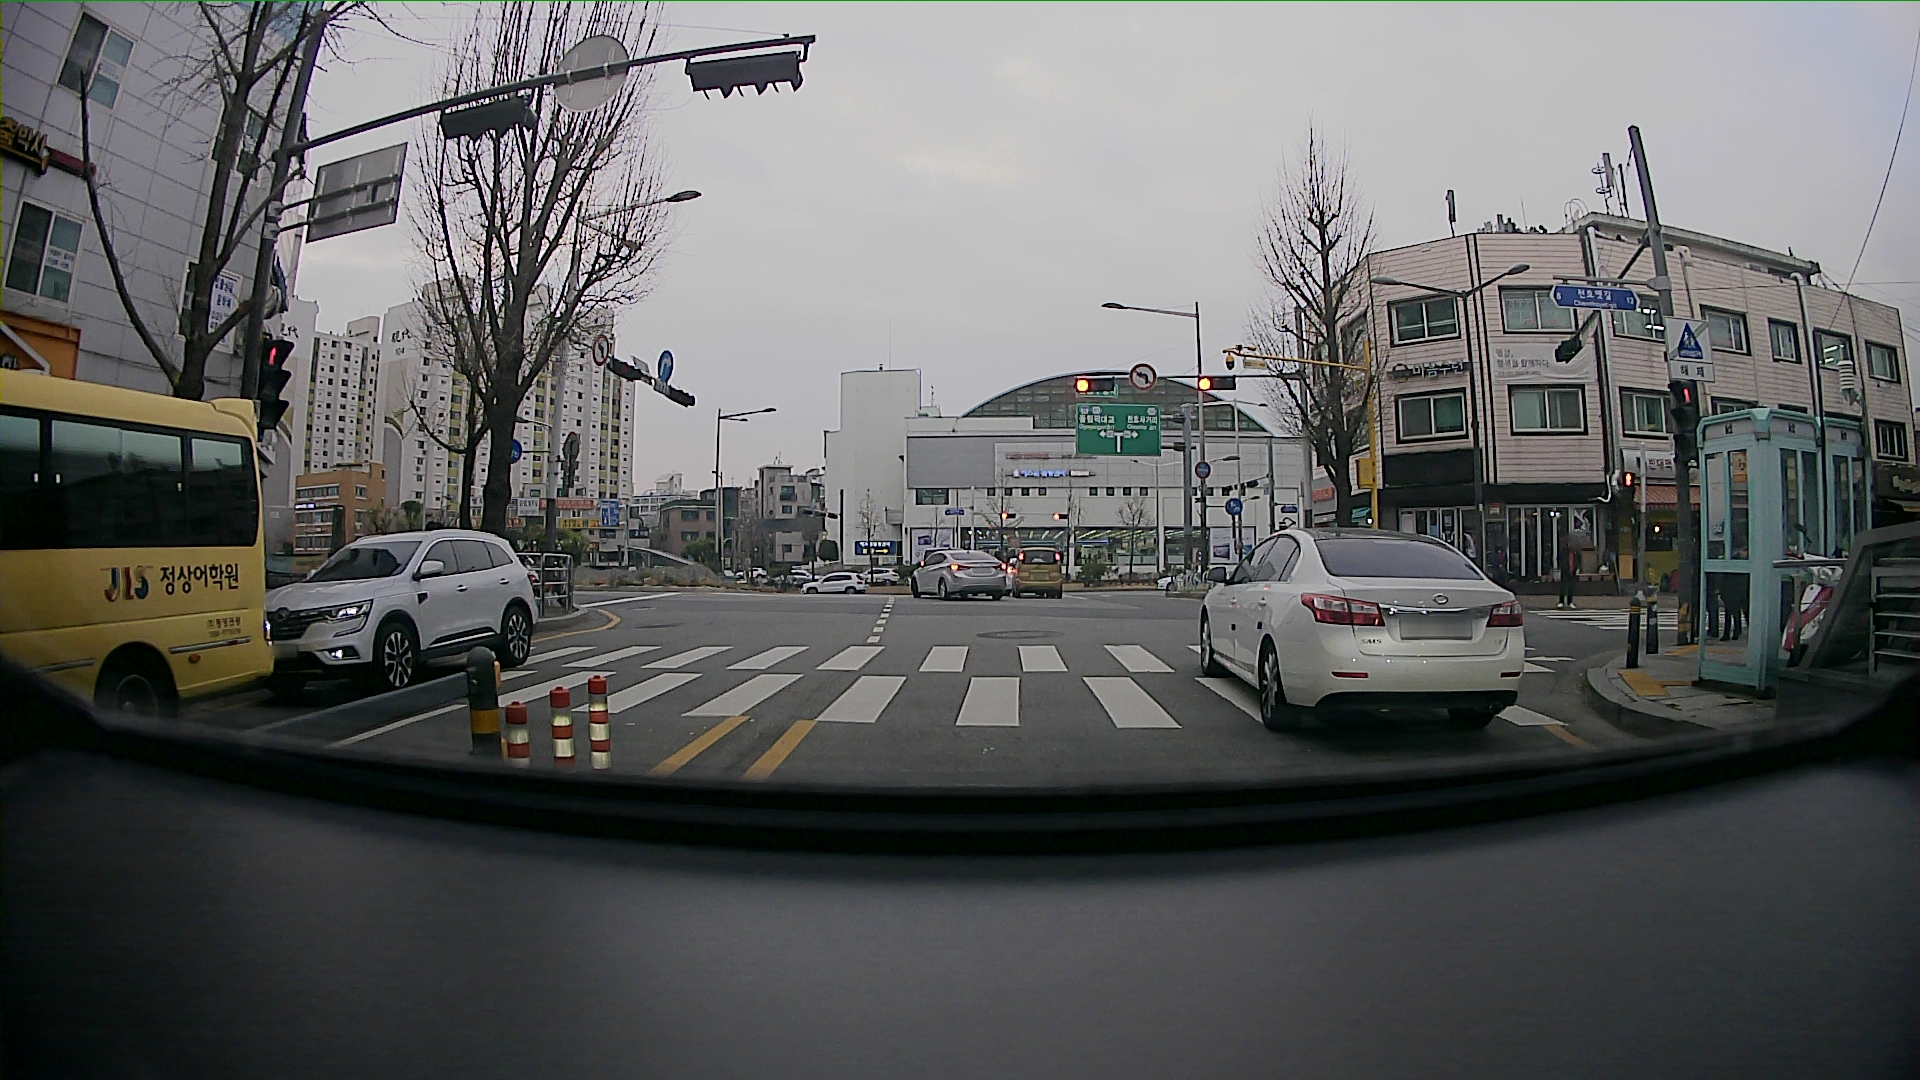trafficLight: (1075, 375, 1120, 396), (1196, 375, 1240, 394)
trafficLightBar: (1671, 371, 1705, 472)
trafficSignCircle: (1129, 355, 1155, 394)
